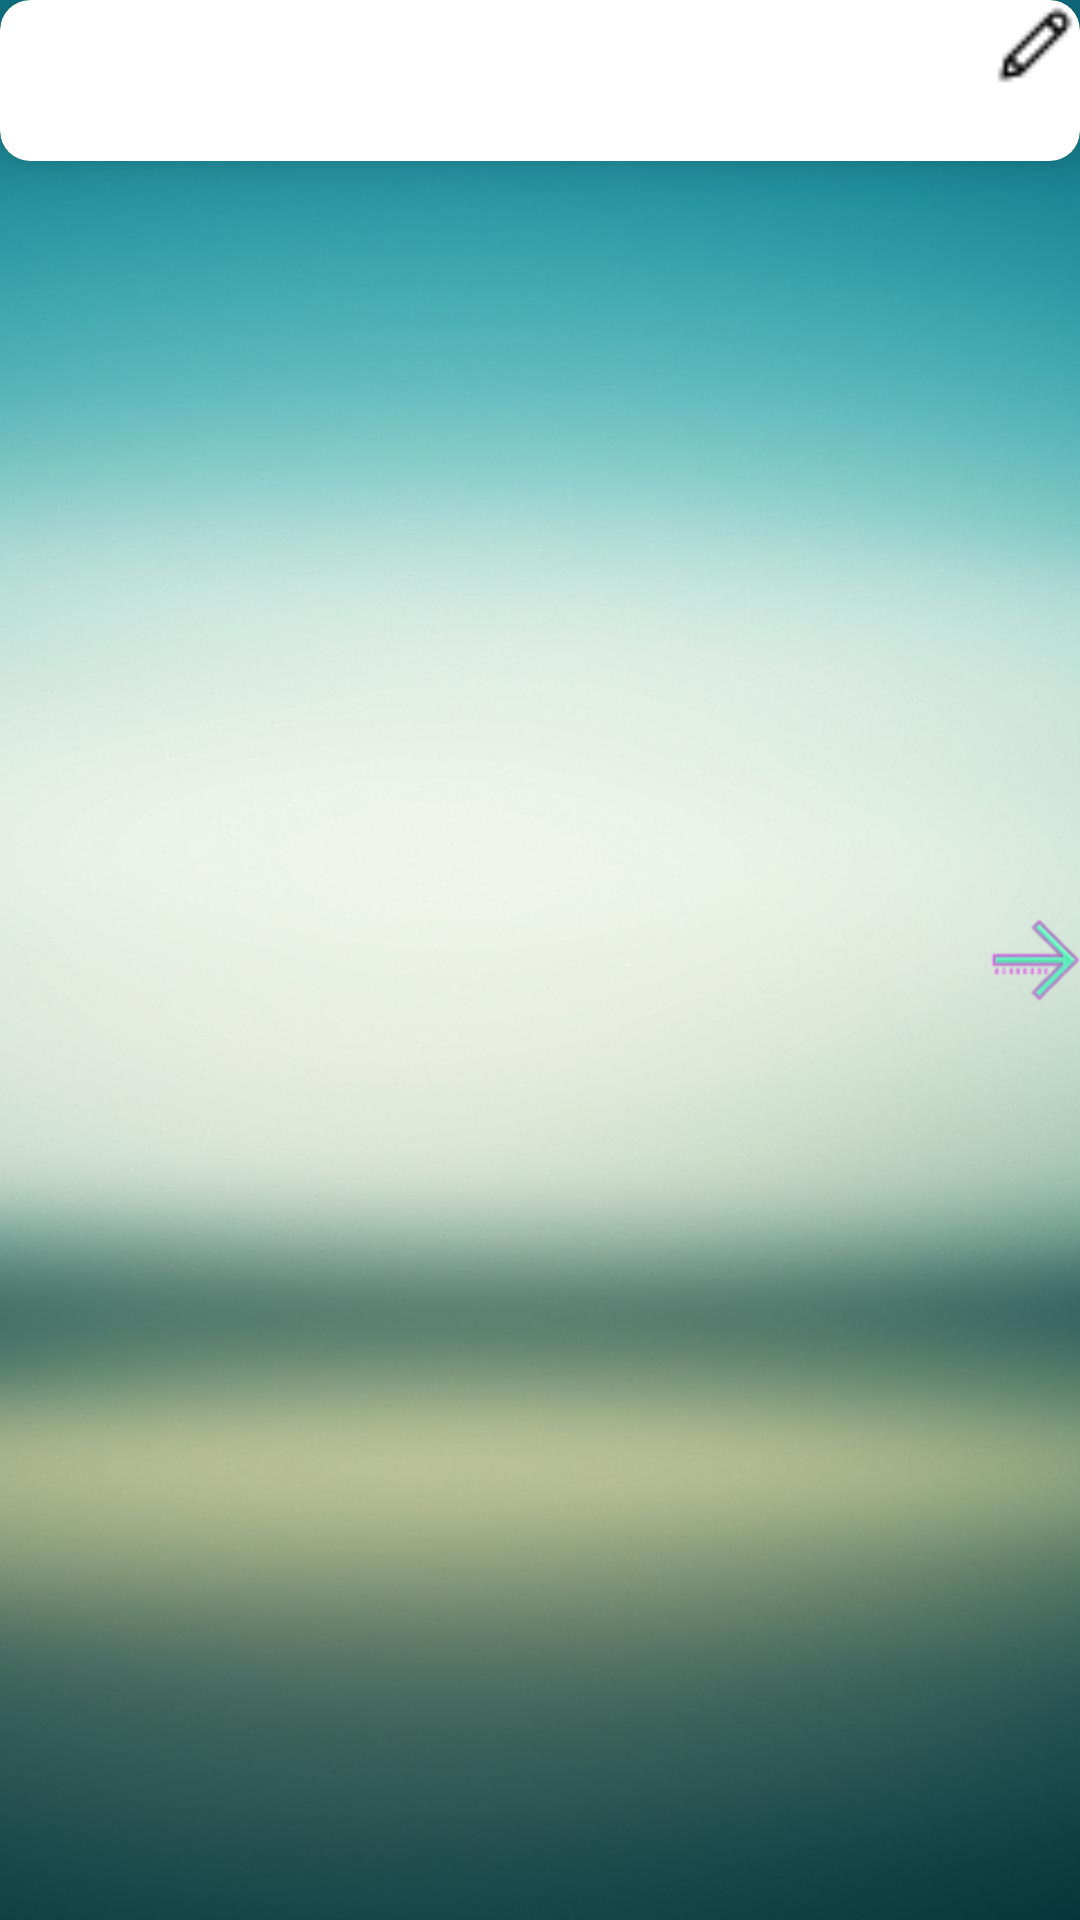

Point at icon controls on the screen. Image size 1080px×1920px, points as (x,y).
change username: (1039,41)
right: (1035,960)
